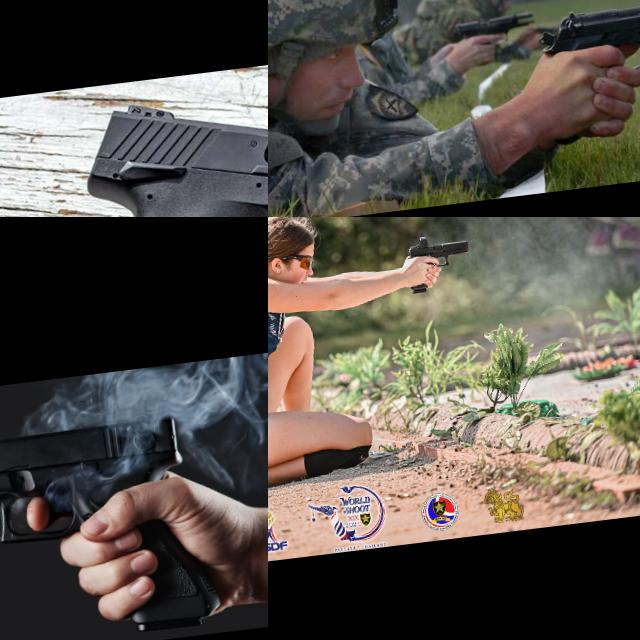handgun: (2, 50, 268, 217), (0, 405, 198, 561), (531, 0, 640, 84), (452, 9, 538, 47), (403, 228, 472, 272)
